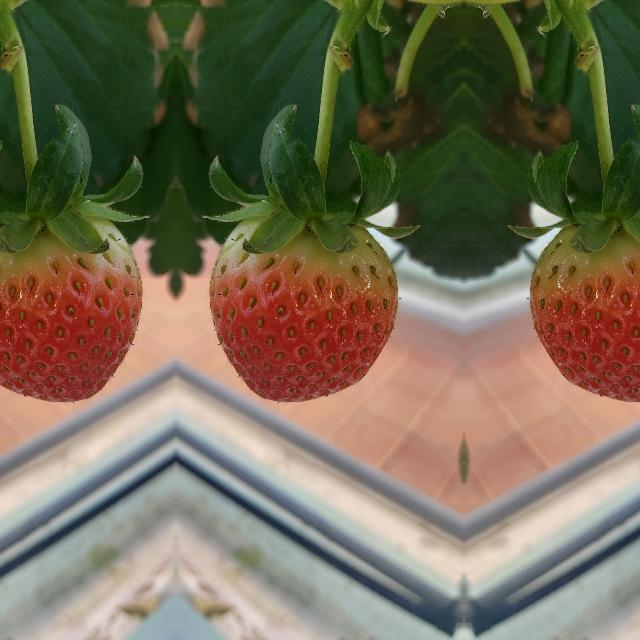Health_100: (208, 216, 396, 400), (0, 215, 142, 400), (529, 215, 640, 400)
